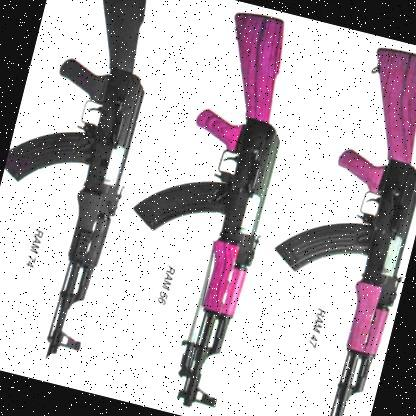rifle: (86, 0, 313, 406), (224, 25, 416, 416), (0, 0, 175, 364)
